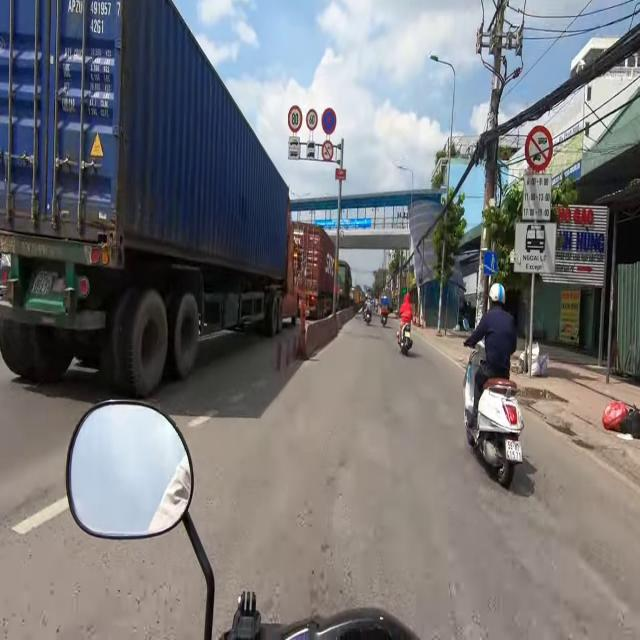bien_trang: (506, 437, 522, 465)
